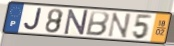5: (132, 13, 154, 41)
8: (44, 8, 64, 34)
B: (84, 10, 111, 37)
J: (23, 7, 43, 32)
N: (106, 12, 133, 39), (63, 9, 89, 36)
